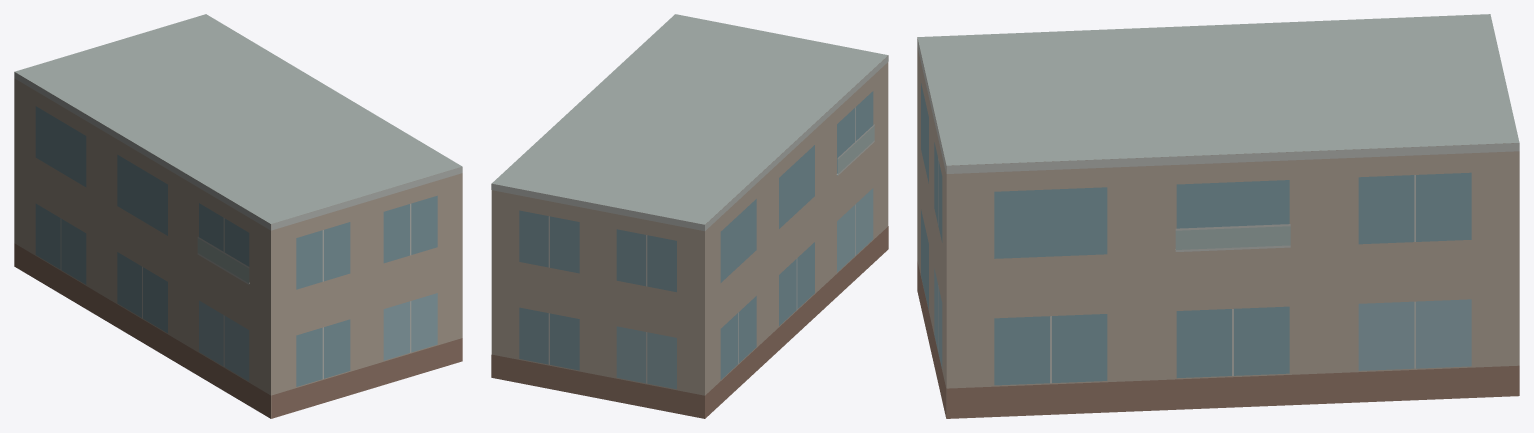
File: survey-upis-32935928.glb
The picture shows the model from 3 angles, left to right: view 1: azimuth 30°, elevation 25°; view 2: azimuth 150°, elevation 25°; view 3: azimuth 270°, elevation 25°; orthographic projection. The views are drawn at different scales.
Parts seen in each view (by area): view 1: survey-upis-32935928.tmp; view 2: survey-upis-32935928.tmp; view 3: survey-upis-32935928.tmp.
Boxes of the visible parts, <box> form: survey-upis-32935928.tmp: <box>14,14,462,418</box>; survey-upis-32935928.tmp: <box>491,14,888,418</box>; survey-upis-32935928.tmp: <box>917,14,1519,418</box>.
Bounding box in the file's own units: 9.39 × 7.3 × 15.75.
